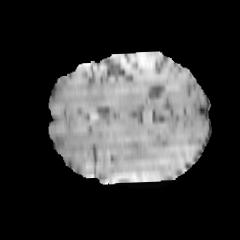glioma: (58, 129, 181, 184)
